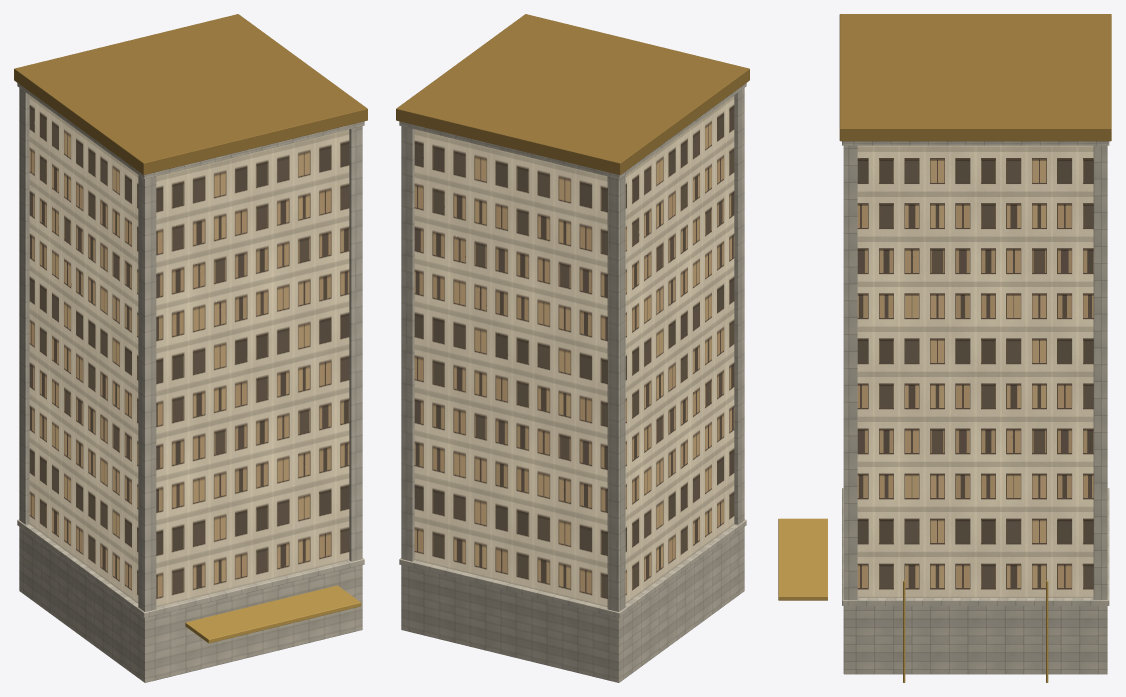
File: LM_ENV_TowerMahkota.glb
3 renders of one model, left to right at view 1: azimuth 30°, elevation 25°; view 2: azimuth 150°, elevation 25°; view 3: azimuth 270°, elevation 25°, orthographic. The views are drawn at different scales.
Parts seen in each view (by area): view 1: TowerMahkota; view 2: TowerMahkota; view 3: TowerMahkota.
Boxes of the visible parts, x1,y1,x2,y2 form: TowerMahkota: (14,14,367,682); TowerMahkota: (396,14,749,682); TowerMahkota: (778,14,1111,682).
Size of the model in its own units: 18.53 by 38.9 by 21.45.
4 materials, 2 textured.
